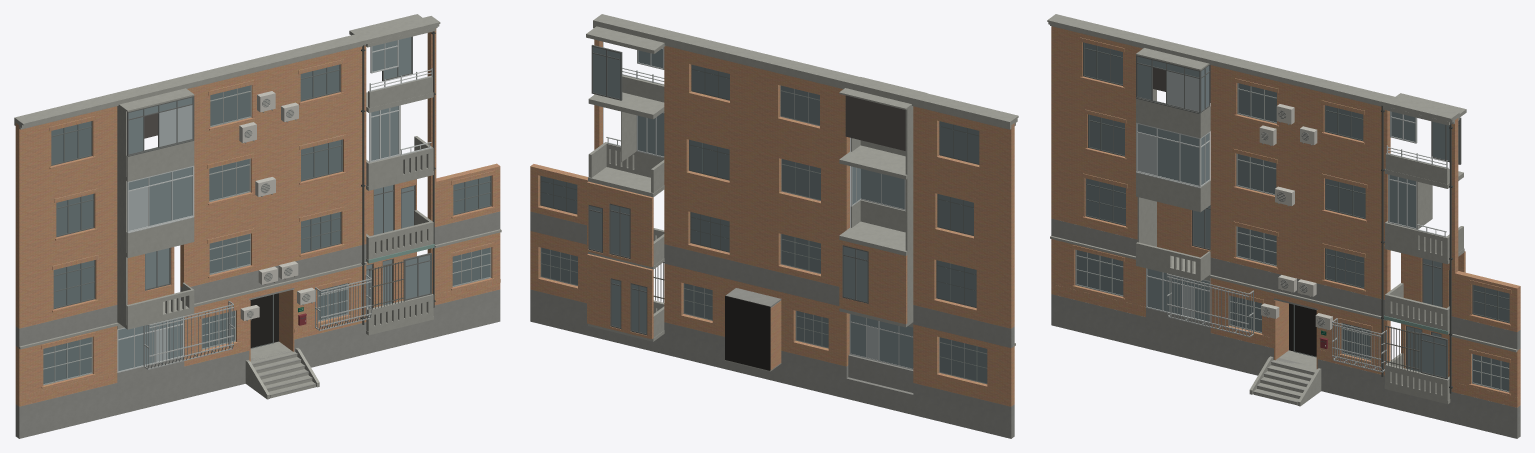
File: xuhui-huaihai-1230-rear-courtyard-entrance-raw.glb
3 views of the same model, side by side, from view 1: azimuth 30°, elevation 25°; view 2: azimuth 150°, elevation 25°; view 3: azimuth 330°, elevation 25° (orthographic). The views are drawn at different scales.
Parts seen in each view (by area): view 1: 淮海中路后排1230号入口与叠层阳台; view 2: 淮海中路后排1230号入口与叠层阳台; view 3: 淮海中路后排1230号入口与叠层阳台.
Part boxes in pixels (x1,y1,x2,y2): 淮海中路后排1230号入口与叠层阳台: [14, 14, 501, 438]; 淮海中路后排1230号入口与叠层阳台: [530, 14, 1018, 438]; 淮海中路后排1230号入口与叠层阳台: [1047, 14, 1520, 438].
Size of the model in its own units: 20.91 by 13.2 by 2.83.
Materials: 24 (4 with a texture image).
